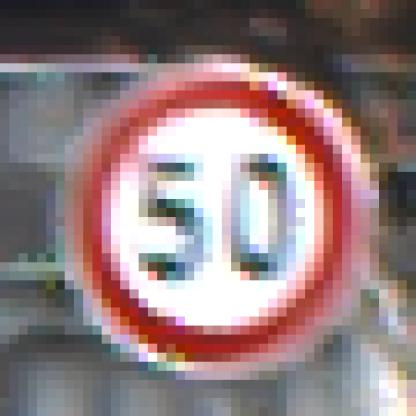Speed Limit 50: (76, 74, 358, 370)
